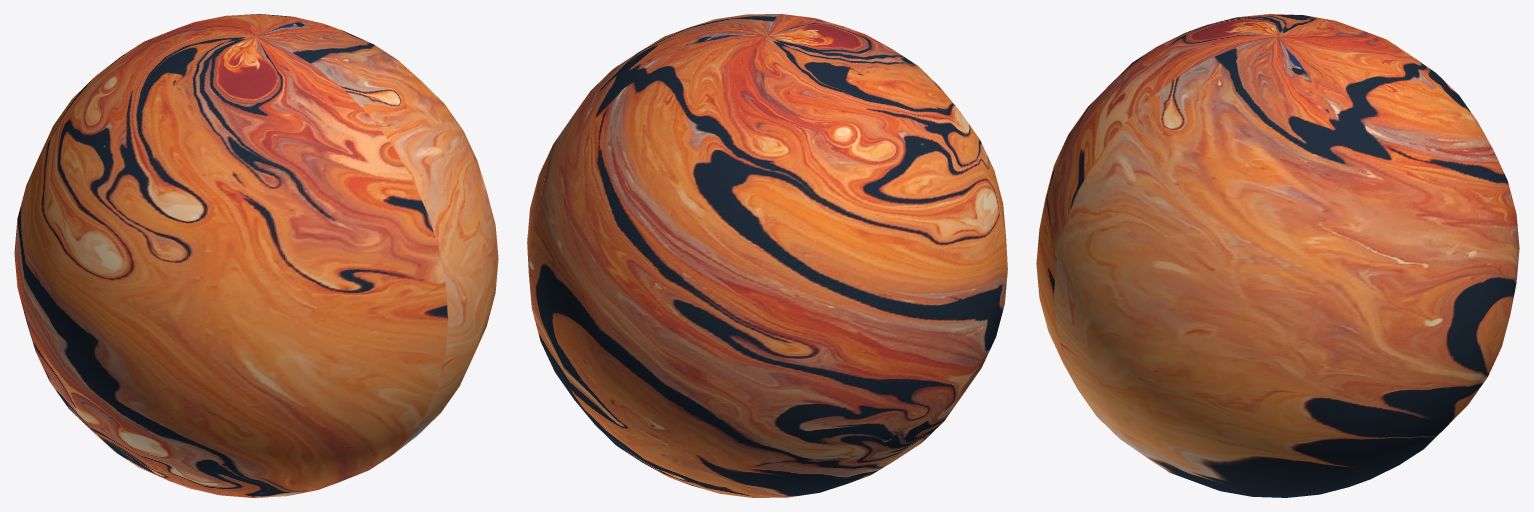
Rendered from planetAnimated.fbx.
3 views of the same model, side by side, from view 1: azimuth 30°, elevation 25°; view 2: azimuth 150°, elevation 25°; view 3: azimuth 270°, elevation 25° (orthographic).
Visible parts, largest first — view 1: pSphere1; view 2: pSphere1; view 3: pSphere1.
Boxes of the visible parts, x1,y1,x2,y2 form: pSphere1: (14,14,498,497); pSphere1: (527,14,1007,497); pSphere1: (1036,14,1519,497).
Bounding box in the file's own units: 3.06 × 3.07 × 3.06.
Materials: 1 (1 with a texture image).
